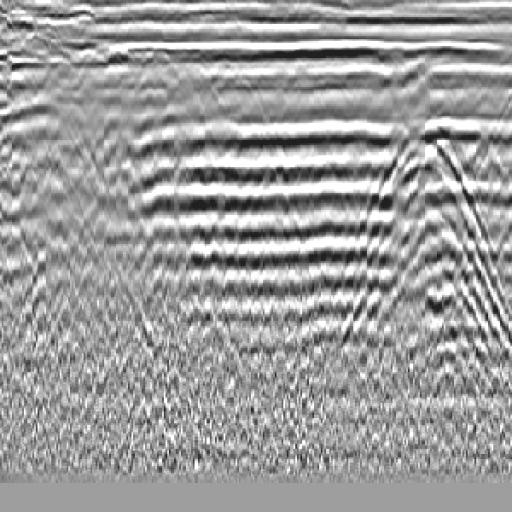non-metallic: (326, 106, 512, 389)
